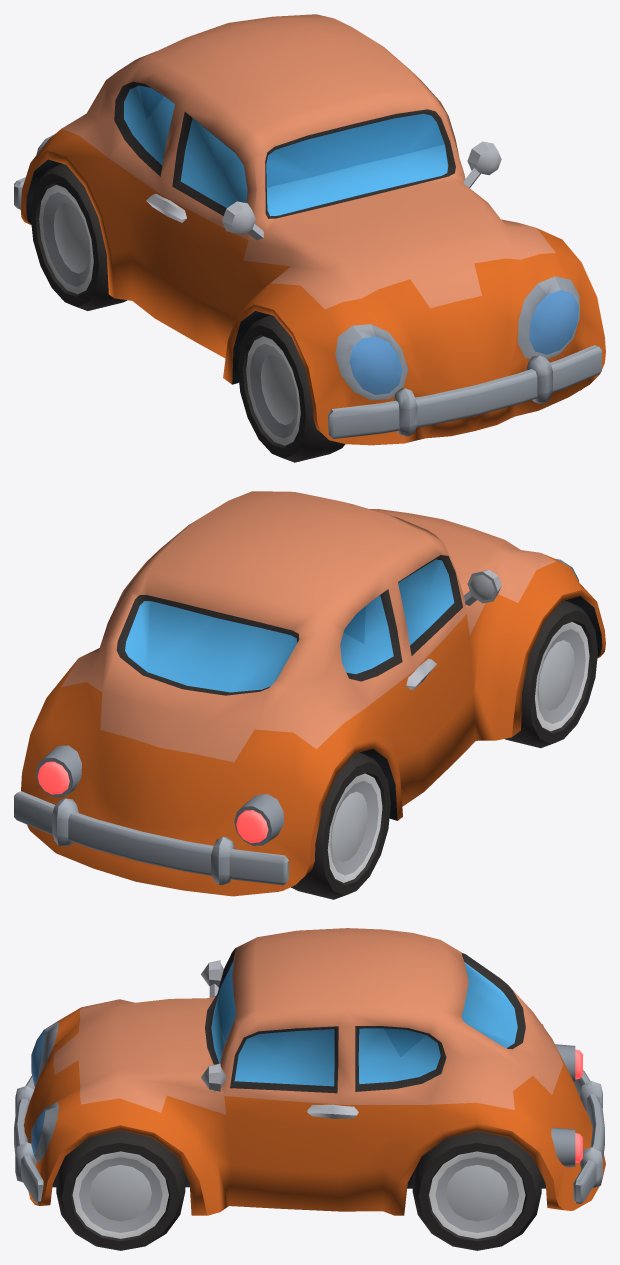
Rendered from car_19_pacote.glb.
3 renders of one model, top to bottom at view 1: azimuth 30°, elevation 25°; view 2: azimuth 150°, elevation 25°; view 3: azimuth 270°, elevation 25°, orthographic. The views are drawn at different scales.
Visible parts, largest first — view 1: car_19_pacote, roda_dianteira_esq, roda_traseira_esq; view 2: car_19_pacote, roda_traseira_esq, roda_dianteira_esq; view 3: car_19_pacote, roda_dianteira_dir, roda_traseira_dir.
Boxes of the visible parts, x1,y1,x2,y2 form: car_19_pacote: [14, 14, 605, 445]; roda_dianteira_esq: [237, 315, 345, 462]; roda_traseira_esq: [30, 164, 126, 310]; car_19_pacote: [14, 491, 605, 896]; roda_traseira_esq: [291, 752, 390, 899]; roda_dianteira_esq: [505, 600, 597, 748]; car_19_pacote: [14, 928, 605, 1215]; roda_dianteira_dir: [56, 1130, 185, 1250]; roda_traseira_dir: [412, 1131, 541, 1250].
Bounding box in the file's own units: 1.62 × 1.48 × 3.31.
4 materials, 1 textured.
